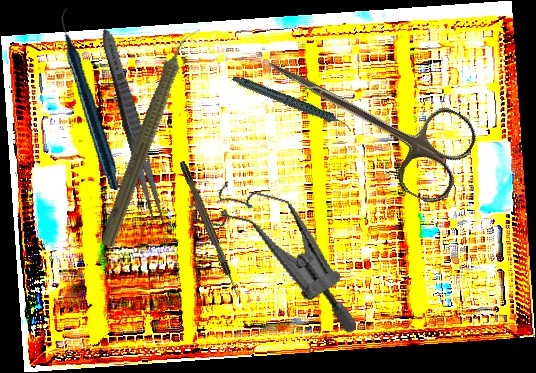Dressing Forceps: (94, 25, 172, 230)
Handpiece: (13, 7, 169, 191), (96, 19, 203, 252), (231, 52, 354, 156)
Hook Surgical: (178, 159, 242, 300)
Iris Scissors: (245, 26, 484, 210)
Speculum: (167, 169, 385, 337)
